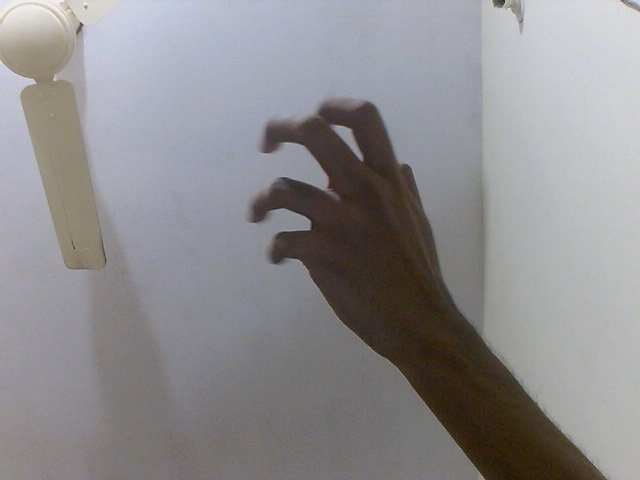hand: (238, 84, 456, 357)
